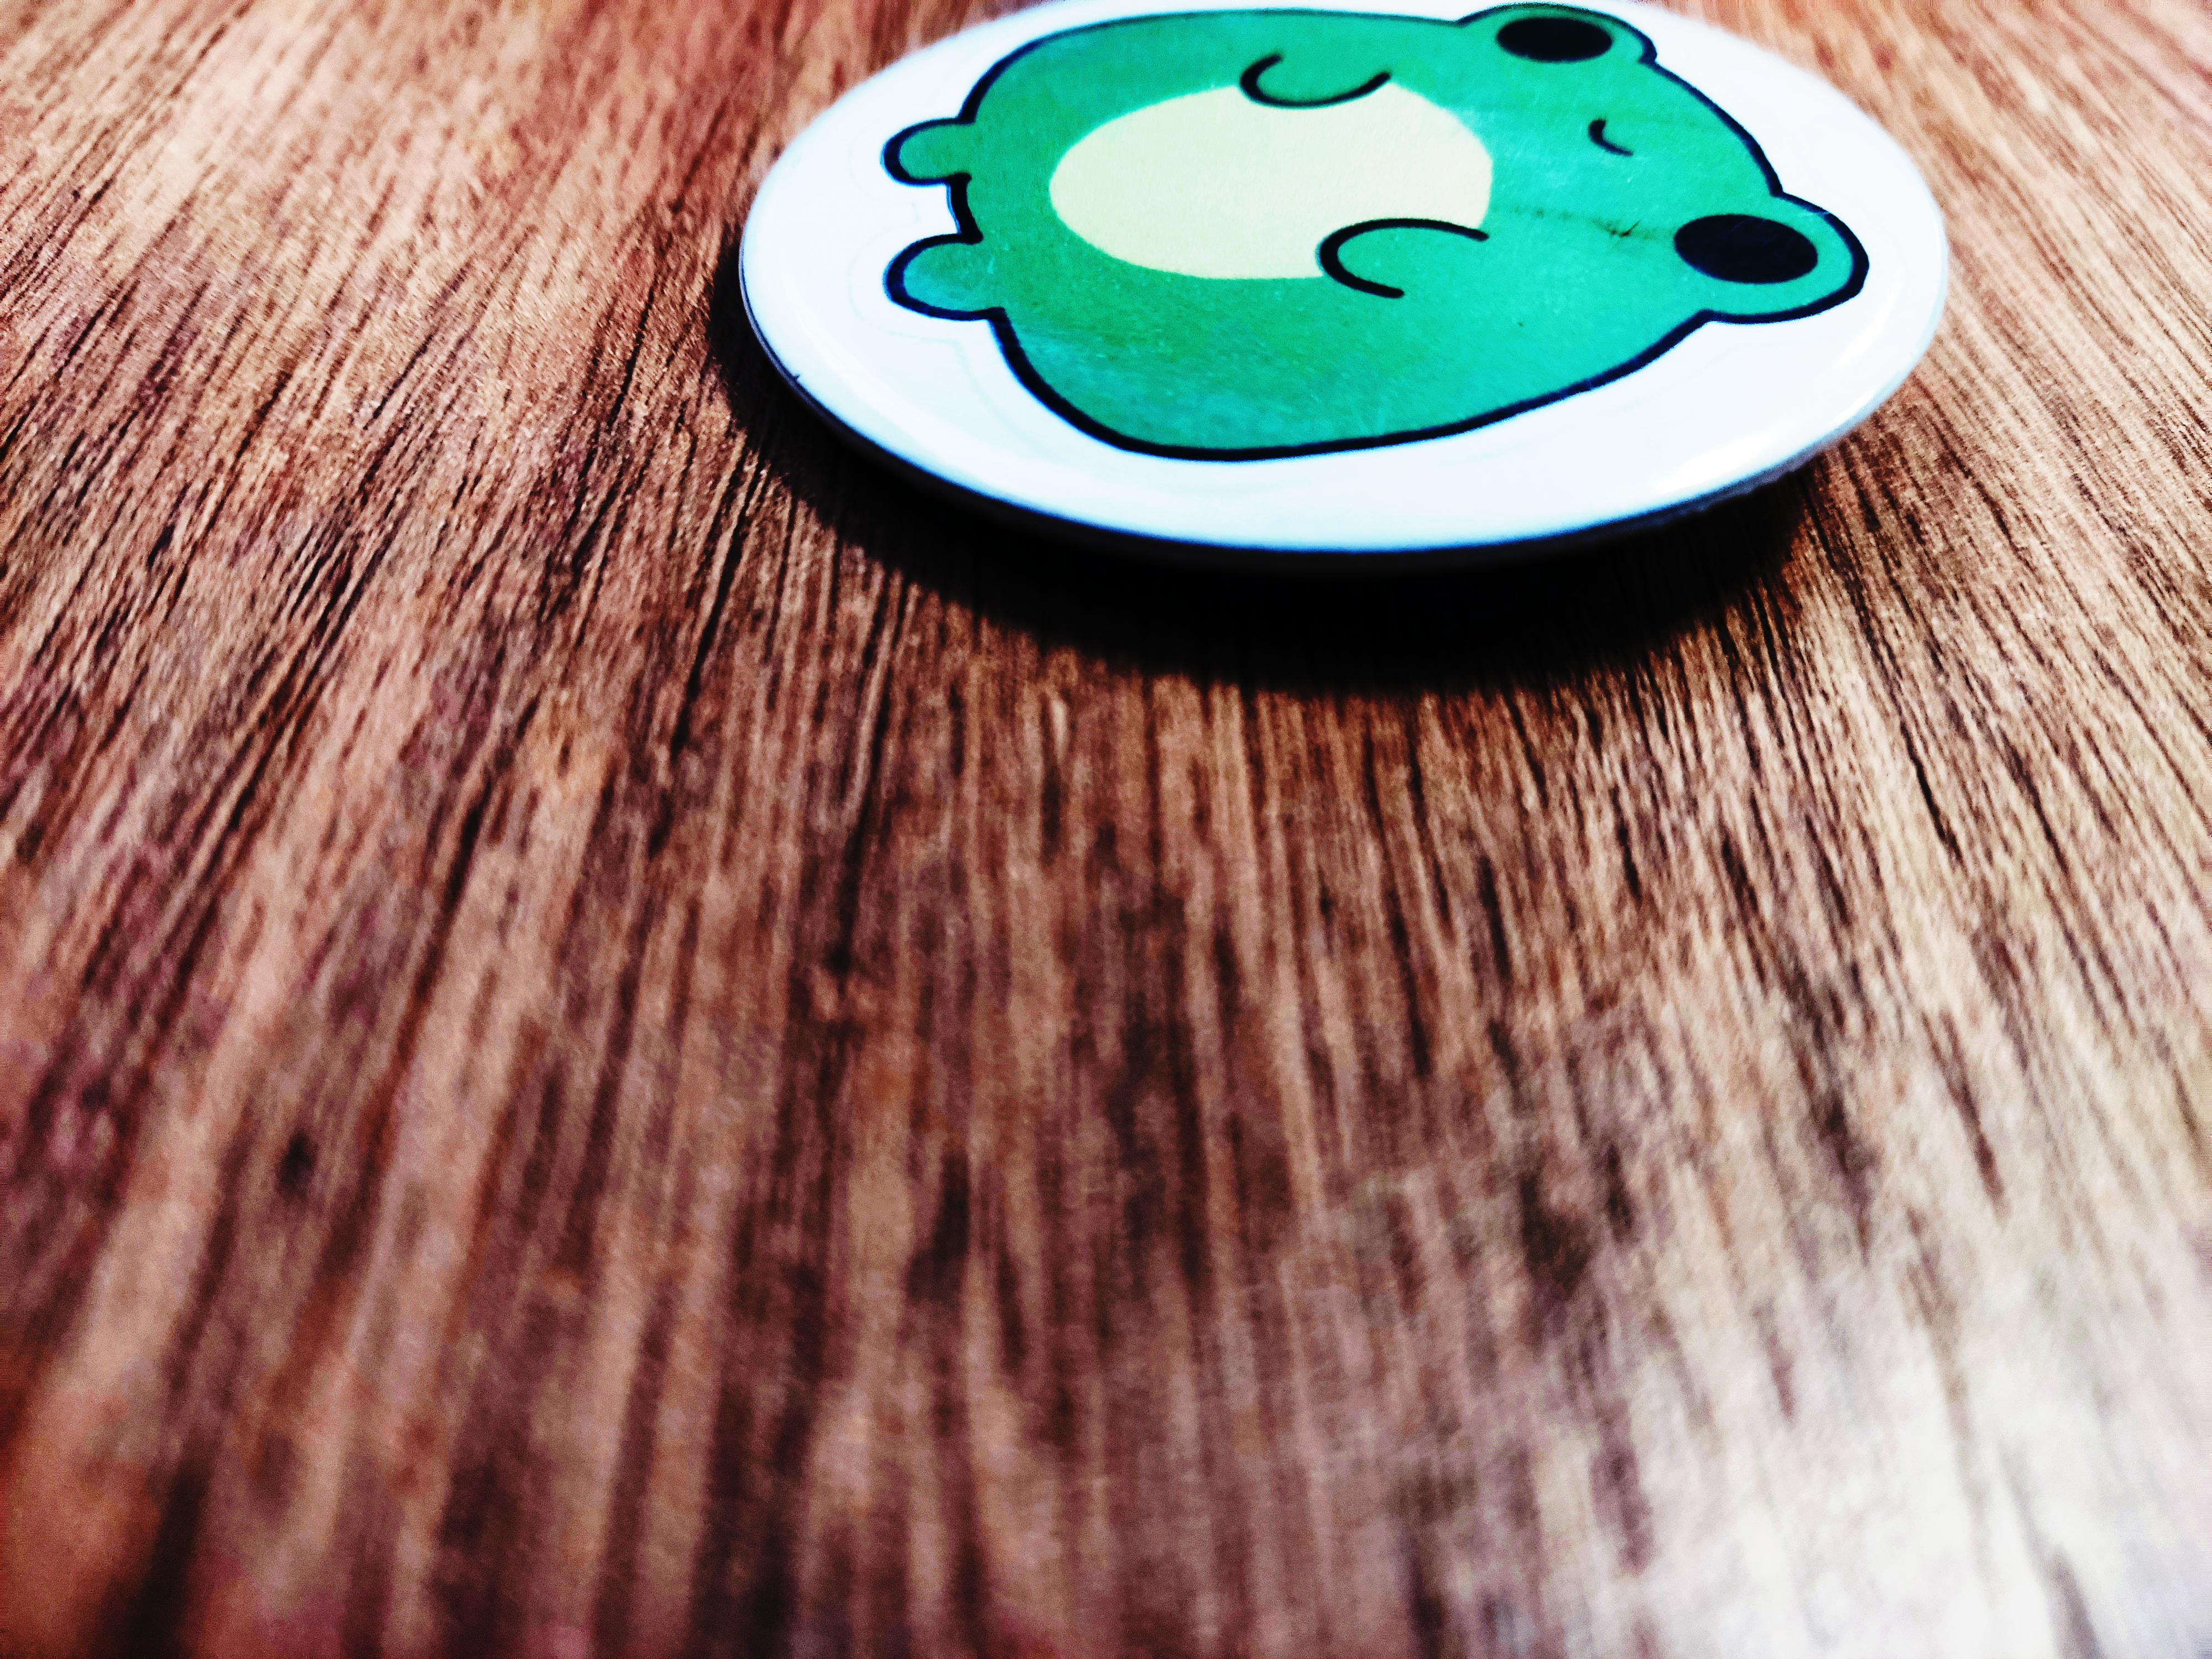pin: (690, 0, 1998, 645)
